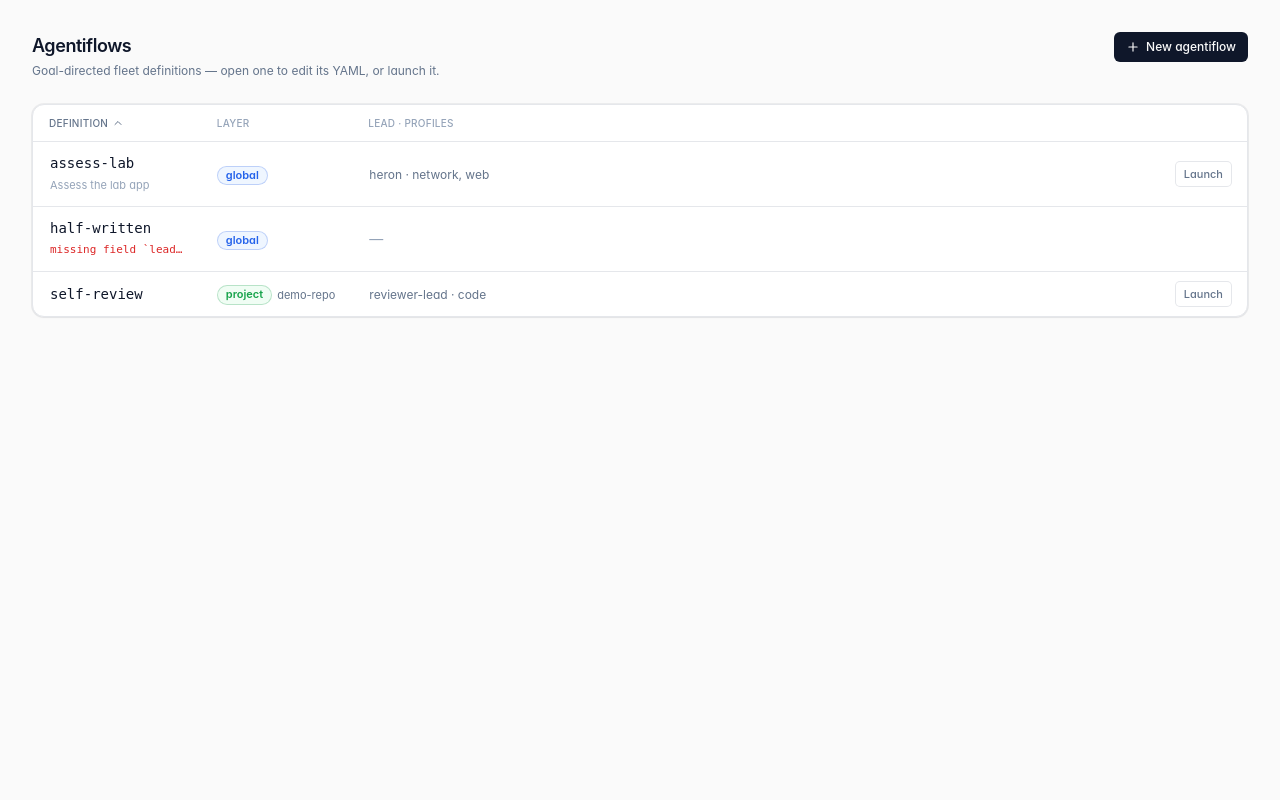
Test: AgentiflowDefs › row Launch opens the launcher on that definition
The width and height of the screenshot is (1280, 800).
Step 1. Click the button with aria-label "Launch self-review" → click(1203, 294), box x1=1176 y1=282 x2=1231 y2=306
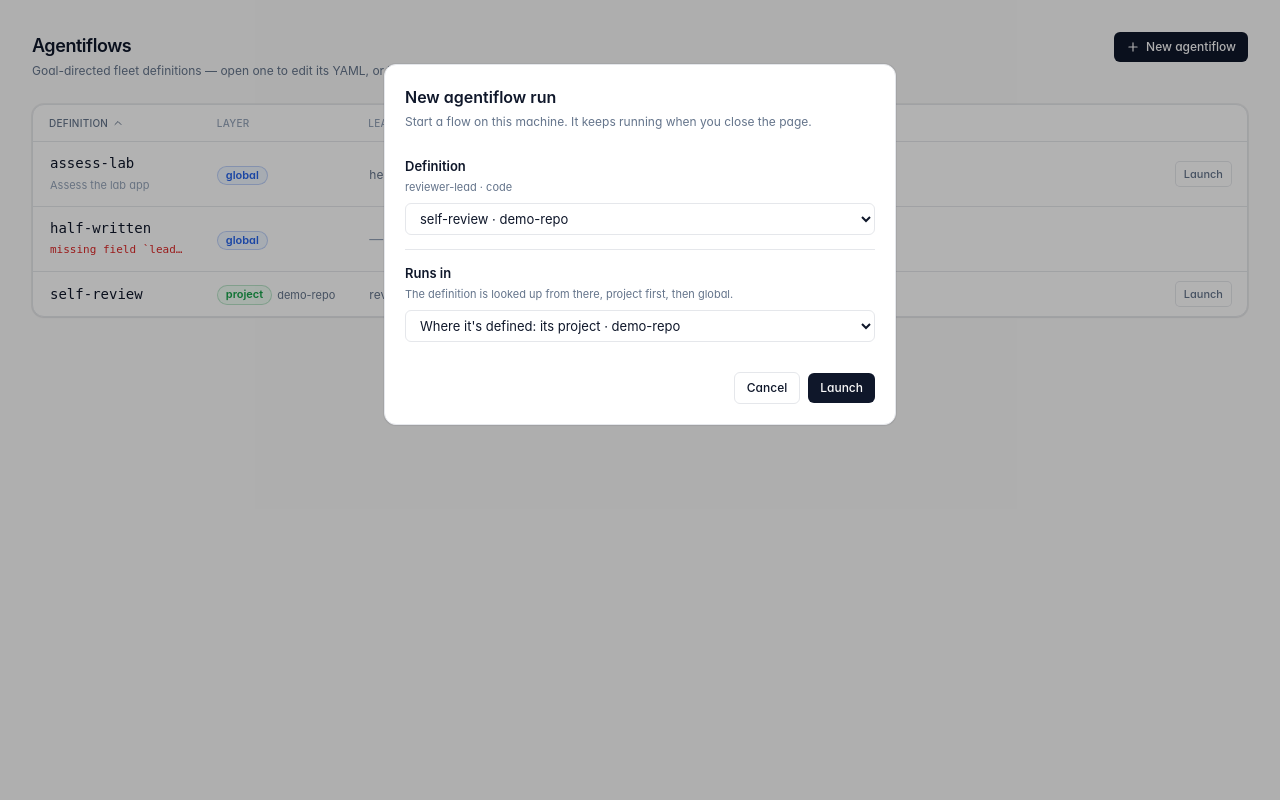
Now the dropdown named "Definition" shows "self-review · demo-repo", box x1=405 y1=203 x2=875 y2=235
